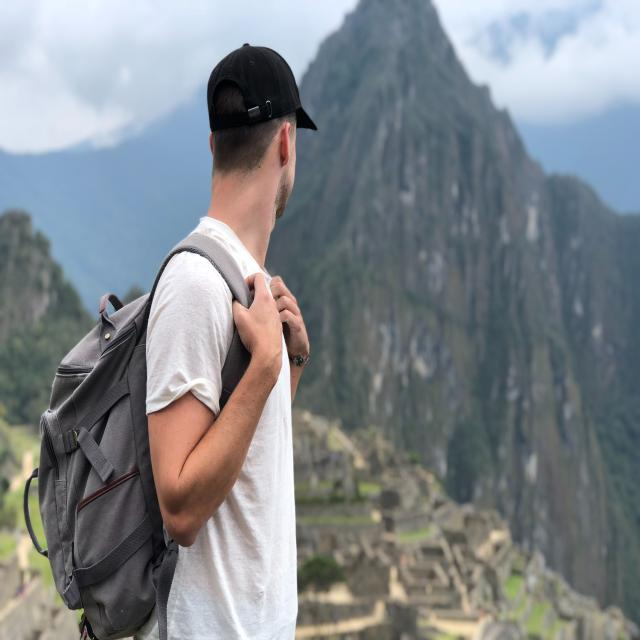backpack: (28, 232, 260, 640)
